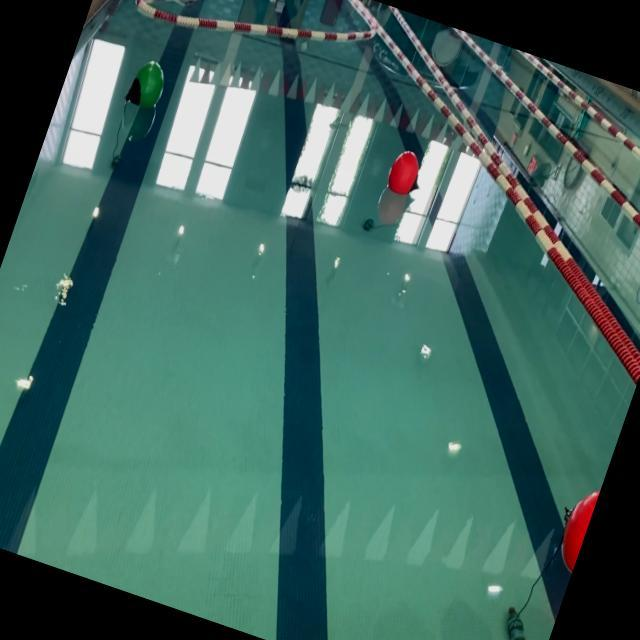buoy: (548, 478, 601, 572), (122, 56, 172, 116), (382, 146, 429, 202)
